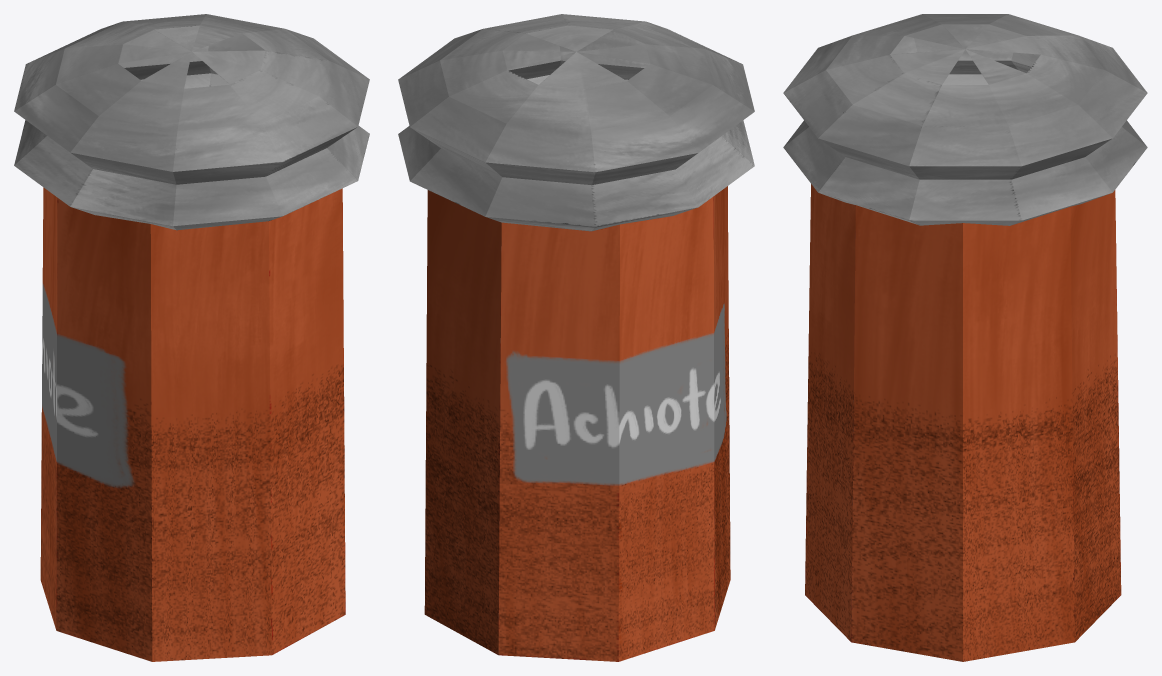
The model's file is ACHOTE_CONDIMENTOS 02.fbx.
The picture shows the model from 3 angles, left to right: view 1: azimuth 30°, elevation 25°; view 2: azimuth 150°, elevation 25°; view 3: azimuth 270°, elevation 25°; orthographic projection.
Parts seen in each view (by area): view 1: Cylinder, Sphere; view 2: Cylinder, Sphere; view 3: Cylinder, Sphere.
Part boxes in pixels (x1=…): Cylinder: x1=40, y1=187, x2=345, y2=661; Sphere: x1=14, y1=14, x2=369, y2=230; Cylinder: x1=424, y1=186, x2=730, y2=661; Sphere: x1=398, y1=14, x2=754, y2=231; Cylinder: x1=805, y1=184, x2=1121, y2=661; Sphere: x1=783, y1=14, x2=1147, y2=225.
Size of the model in its own units: 176 by 305 by 185.
1 material, 1 textured.
